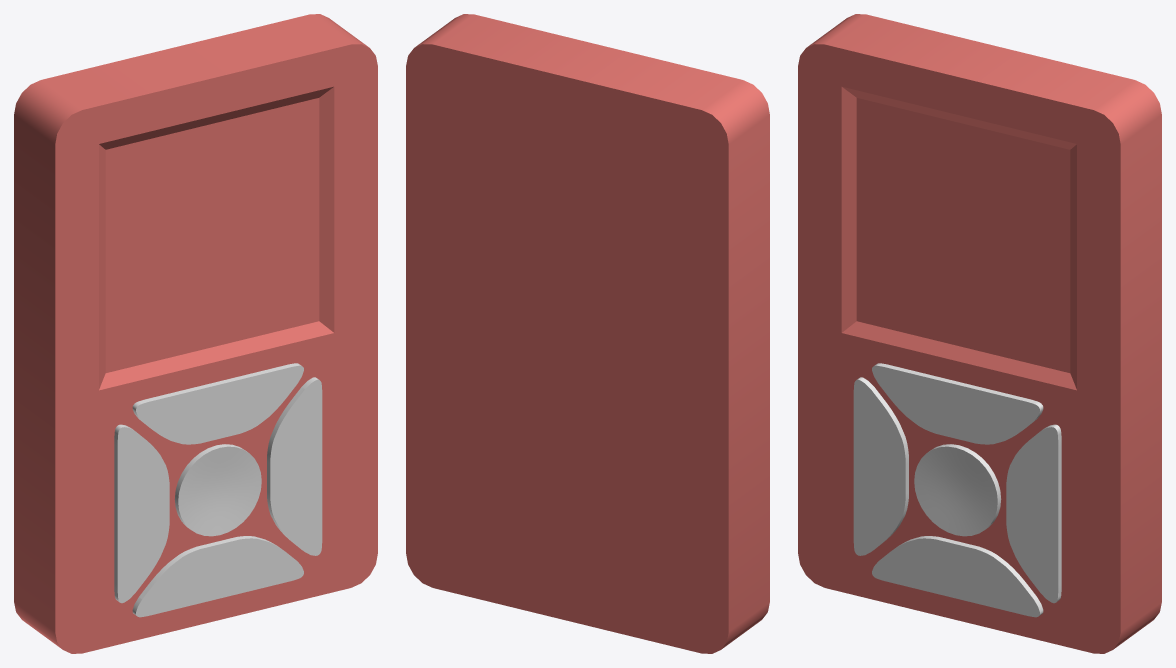
File: case.glb
The picture shows the model from 3 angles, left to right: view 1: azimuth 30°, elevation 25°; view 2: azimuth 150°, elevation 25°; view 3: azimuth 330°, elevation 25°; orthographic projection.
Parts seen in each view (by area): view 1: Case.004, Right Button.001, Left Button.001, Down Button.001, Up Button.001, Center Button.001; view 2: Case.004; view 3: Case.004, Left Button.001, Right Button.001, Down Button.001, Up Button.001, Center Button.001.
Part boxes in pixels (x1,y1,x2,y2): Case.004: [14, 14, 377, 653]; Right Button.001: [267, 377, 322, 555]; Left Button.001: [114, 424, 169, 603]; Down Button.001: [132, 536, 303, 617]; Up Button.001: [132, 363, 303, 444]; Center Button.001: [174, 444, 261, 536]; Case.004: [406, 14, 769, 653]; Case.004: [798, 14, 1161, 653]; Left Button.001: [853, 377, 908, 555]; Right Button.001: [1006, 424, 1061, 603]; Down Button.001: [872, 536, 1043, 617]; Up Button.001: [872, 363, 1043, 444]; Center Button.001: [914, 444, 1001, 536].
Bounding box in the file's own units: 9.05 × 14.56 × 2.17.
